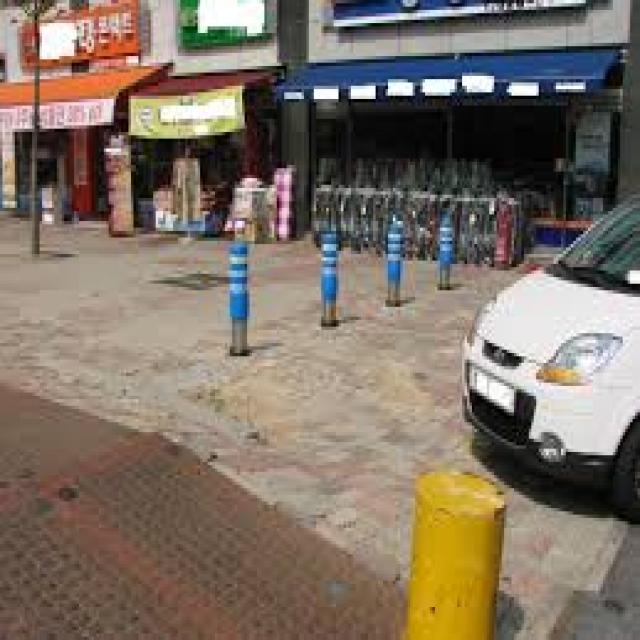bollard: (219, 232, 254, 362), (308, 226, 344, 338), (372, 207, 408, 318), (432, 198, 458, 297)
